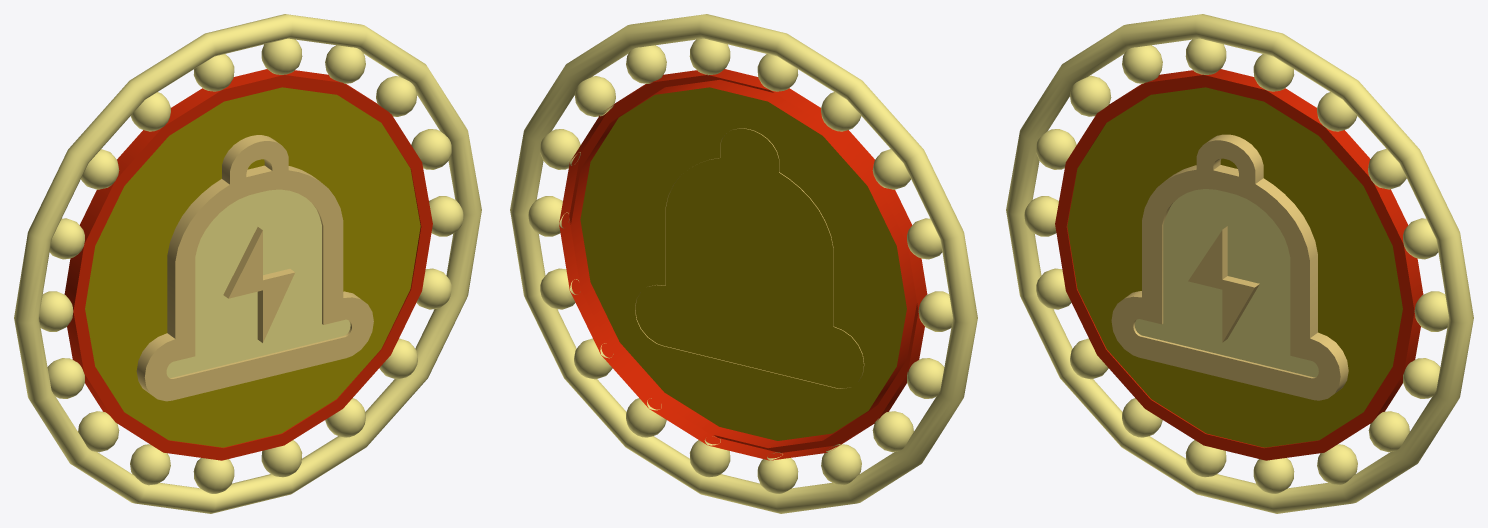
The picture shows the model from 3 angles, left to right: view 1: azimuth 30°, elevation 25°; view 2: azimuth 150°, elevation 25°; view 3: azimuth 330°, elevation 25°; orthographic projection.
Parts seen in each view (by area): view 1: 预警图标02; view 2: 预警图标02; view 3: 预警图标02.
Part boxes in pixels (box(x1,y1,x2,y2)): 预警图标02: box(14, 14, 481, 513); 预警图标02: box(510, 14, 977, 513); 预警图标02: box(1006, 14, 1473, 513).
Size of the model in its own units: 0.1559 by 0.1536 by 0.0155.
